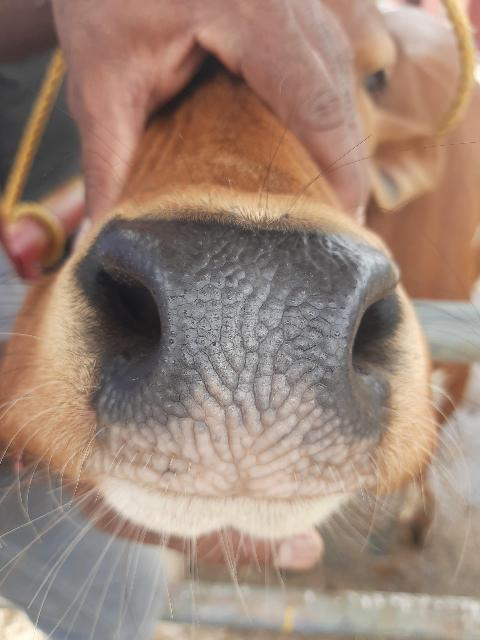Muzzle: (100, 227, 372, 489)
